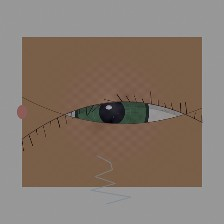foreign_body_visible: (41, 93, 67, 113)
